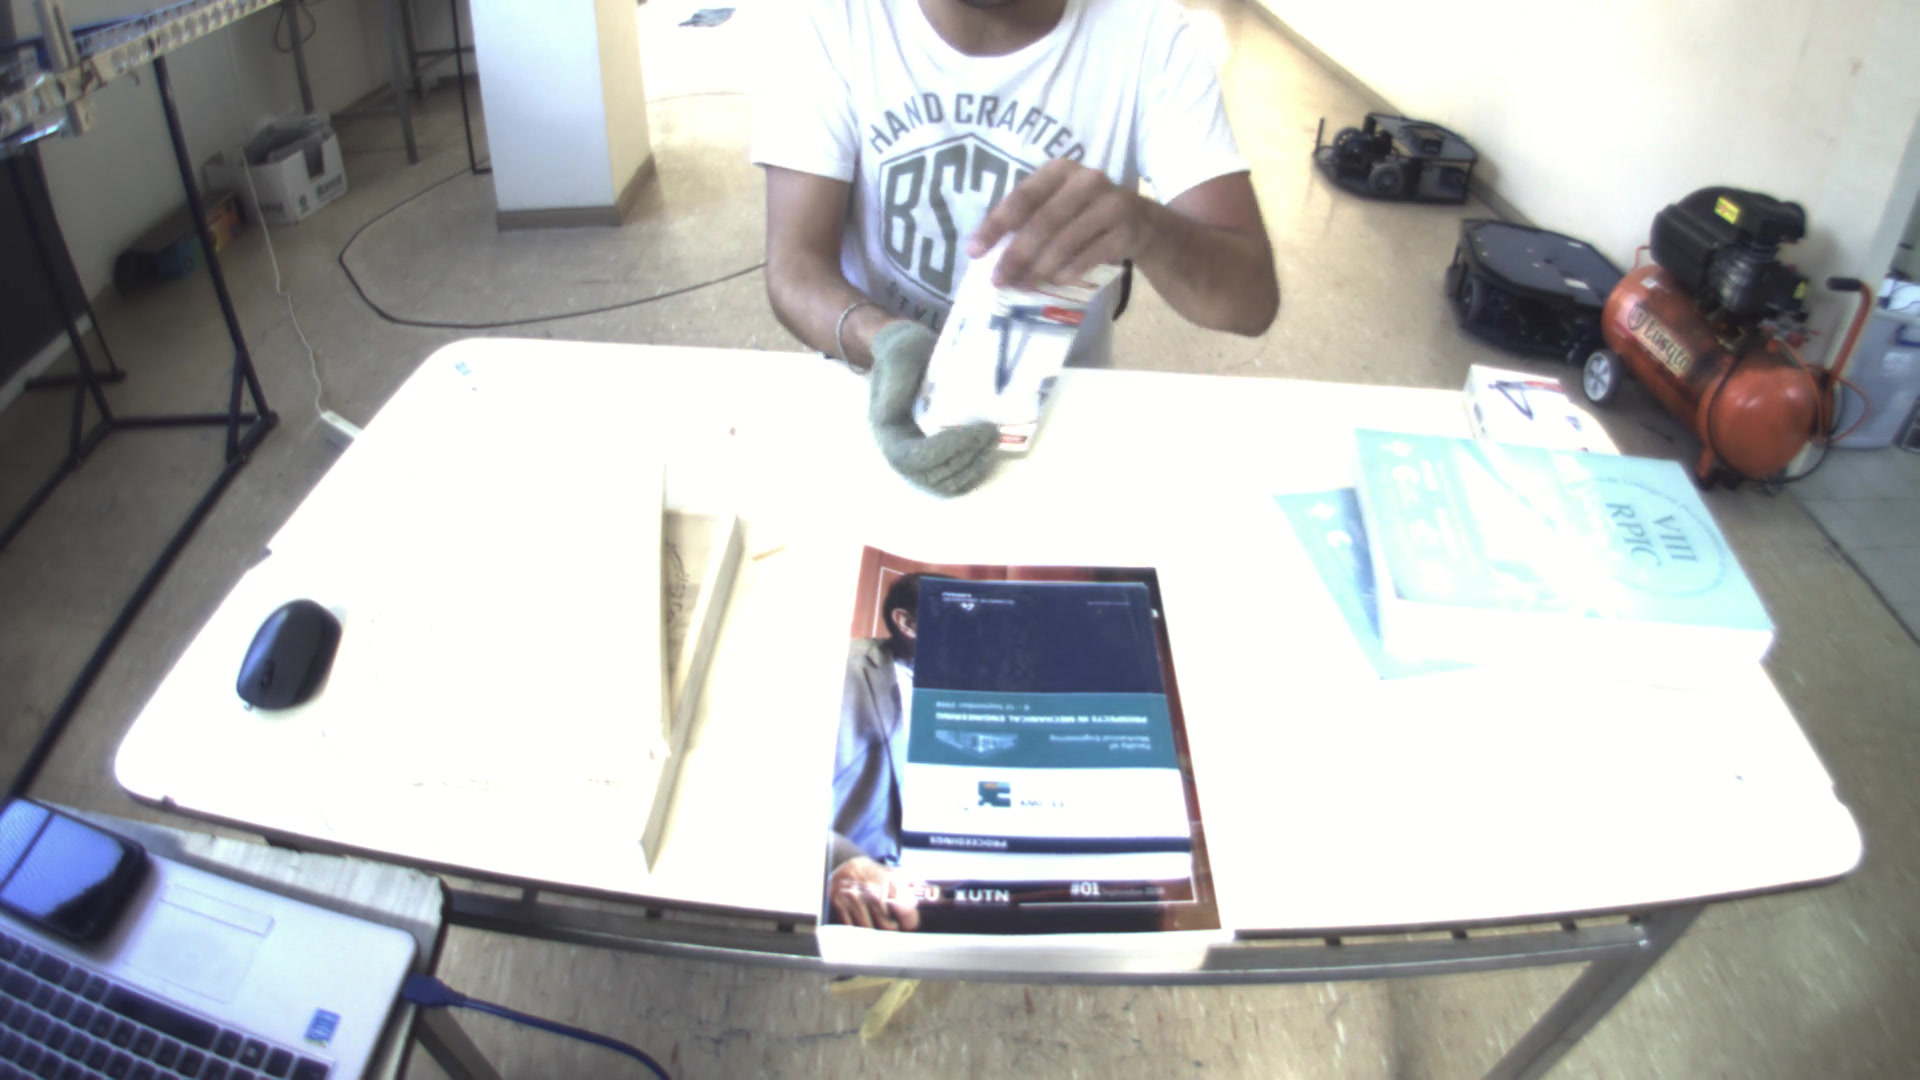hand: (957, 146, 1162, 297), (844, 319, 1005, 509)
